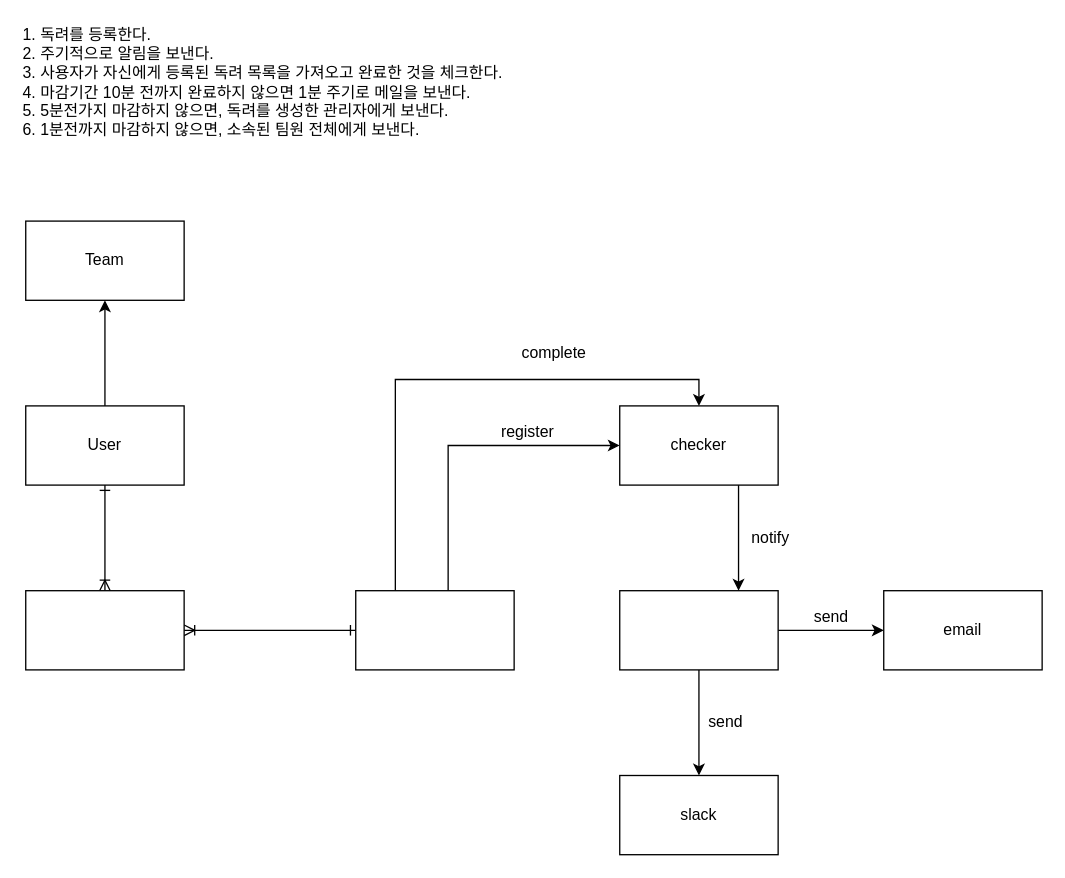
Some shapes in this 1065 by 878 pixel diagram are drawn without their labels. Here are the shapes that lost their labels. From the top down, the centre of each, then its label:
pixel 104 629: User_encouraging 1. user 2. encouraging
pixel 434 629: Encouraging 1. 마감기간 2. 등록한 사용자
pixel 698 629: notifiier
